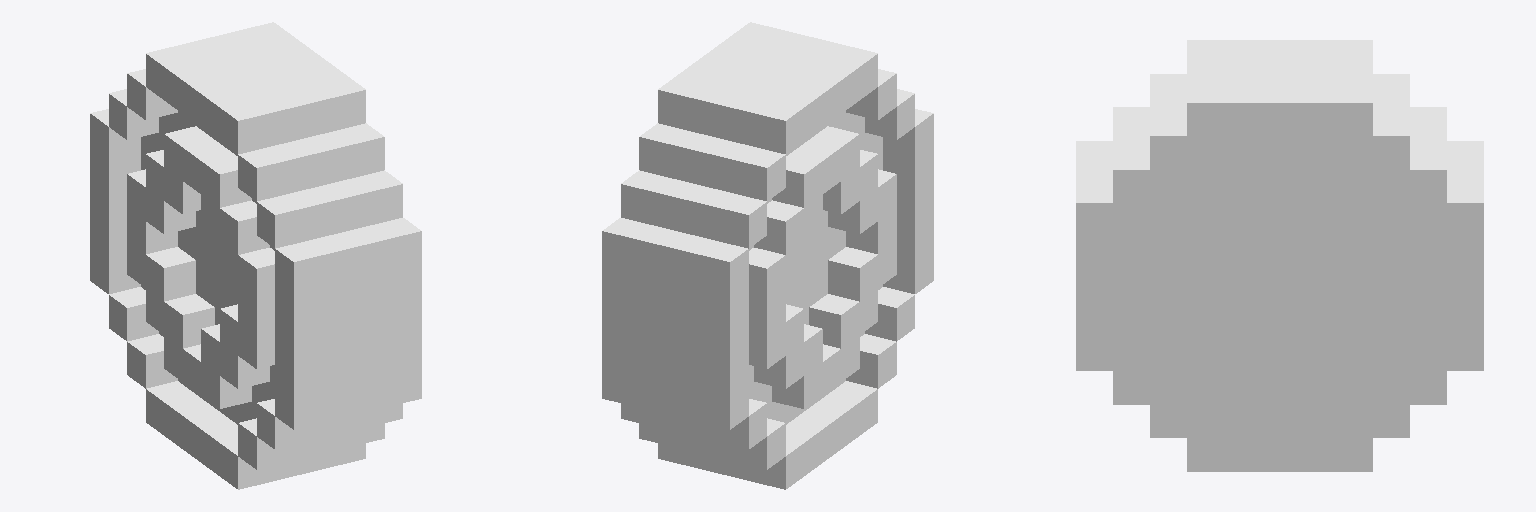
The model's file is Car1Wheel.obj.
3 renders of one model, left to right at view 1: azimuth 30°, elevation 25°; view 2: azimuth 150°, elevation 25°; view 3: azimuth 270°, elevation 25°, orthographic.
Parts seen in each view (by area): view 1: object 1; view 2: object 1; view 3: object 1.
Part boxes in pixels (left/top/right/bottom): object 1: left=90, top=22, right=421, bottom=489; object 1: left=602, top=22, right=933, bottom=489; object 1: left=1076, top=40, right=1483, bottom=471.
Size of the model in its own units: 0.4 by 1.1 by 1.1.